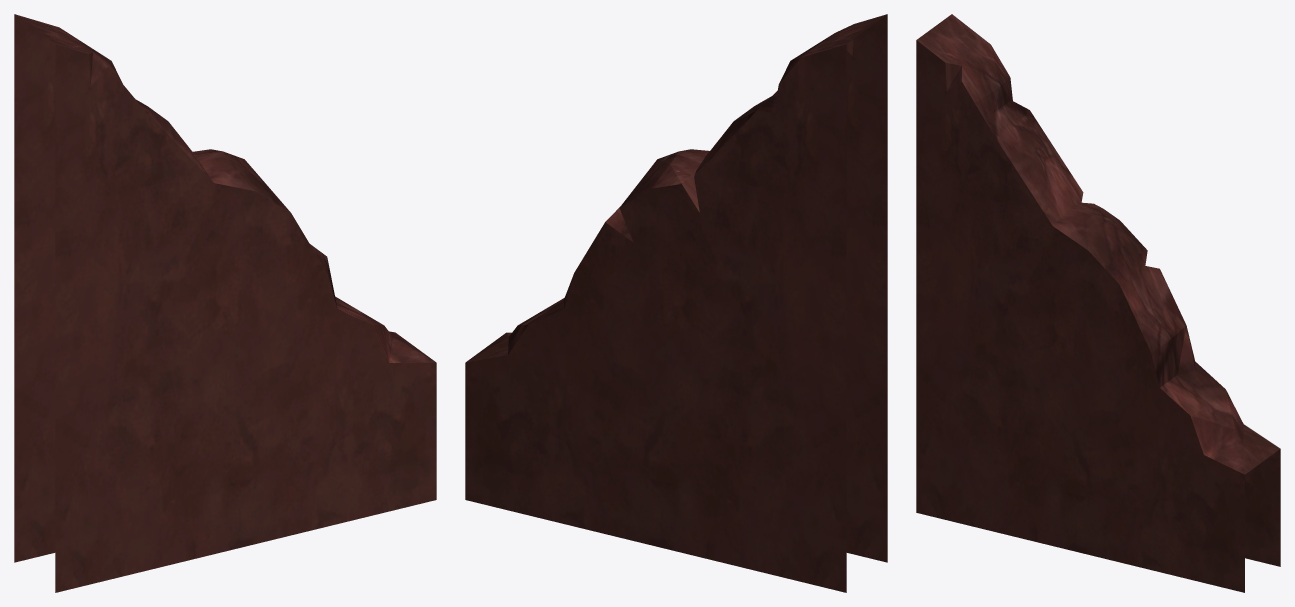
The model's file is lava_broken_straight_05.fbx.
3 views of the same model, side by side, from view 1: azimuth 30°, elevation 25°; view 2: azimuth 150°, elevation 25°; view 3: azimuth 330°, elevation 25° (orthographic). The views are drawn at different scales.
Visible parts, largest first — view 1: lava_broken_straight_05-0; view 2: lava_broken_straight_05-0; view 3: lava_broken_straight_05-0.
Boxes of the visible parts, x1,y1,x2,y2 form: lava_broken_straight_05-0: [14, 14, 436, 592]; lava_broken_straight_05-0: [465, 14, 887, 592]; lava_broken_straight_05-0: [916, 14, 1280, 592].
Size of the model in its own units: 4 by 5.5 by 0.75.
